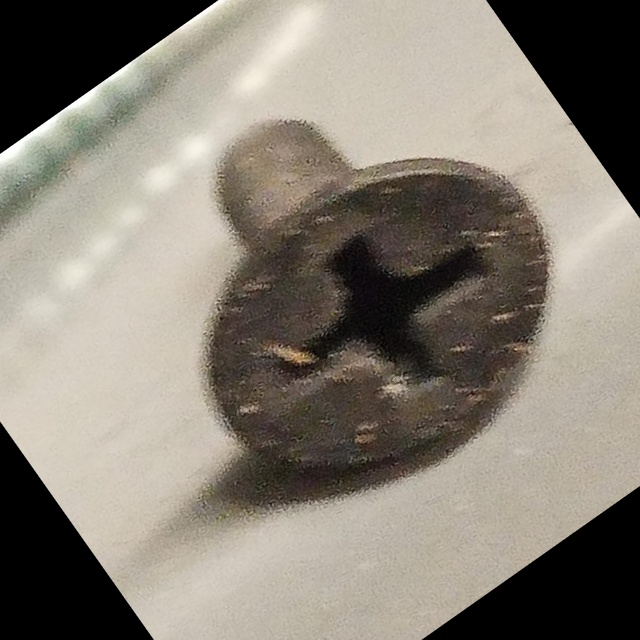phillips: (142, 95, 614, 544)
